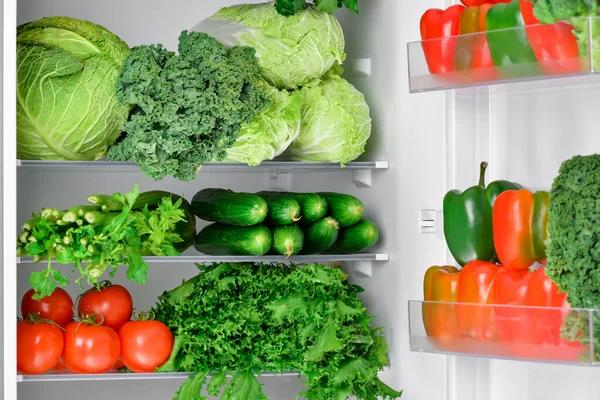bell pepper: (431, 192, 578, 344), (405, 0, 600, 87)
cabbage: (203, 2, 374, 164), (14, 16, 147, 173)
cucumber: (192, 176, 390, 259)
tomato: (9, 276, 186, 384)
